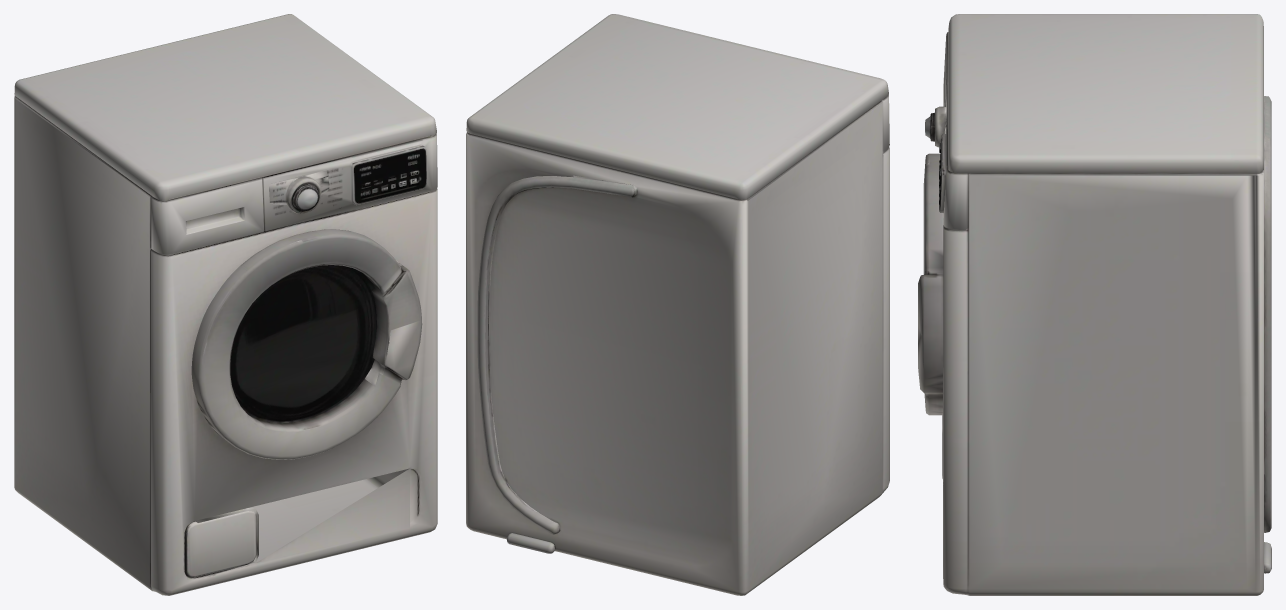
Rendered from Misc__a_dryer_19043371_v2.cluster.glb.
3 views of the same model, side by side, from view 1: azimuth 30°, elevation 25°; view 2: azimuth 150°, elevation 25°; view 3: azimuth 270°, elevation 25° (orthographic). The views are drawn at different scales.
Visible parts, largest first — view 1: material; view 2: material; view 3: material.
Part boxes in pixels (x1,y1,x2,y2): material: (14, 14, 437, 595); material: (466, 14, 889, 595); material: (918, 14, 1271, 595).
Bounding box in the file's own units: 1.35 × 1.9 × 1.38.
Materials: 1 (1 with a texture image).
